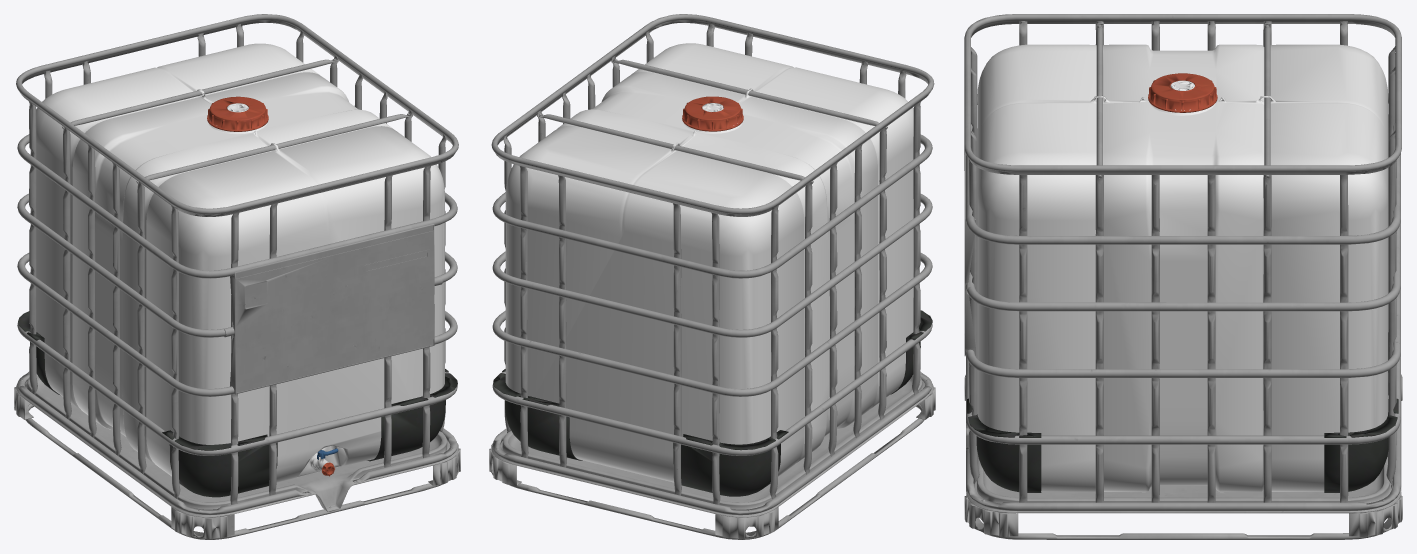
Rendered from ibc.glb.
The picture shows the model from 3 angles, left to right: view 1: azimuth 30°, elevation 25°; view 2: azimuth 150°, elevation 25°; view 3: azimuth 270°, elevation 25°; orthographic projection. The views are drawn at different scales.
Visible parts, largest first — view 1: sm_ibcTank_a02_mesh_00; view 2: sm_ibcTank_a02_mesh_00; view 3: sm_ibcTank_a02_mesh_00.
Boxes of the visible parts, box(x1,y1,x2,y2) form: sm_ibcTank_a02_mesh_00: box(14, 14, 460, 539); sm_ibcTank_a02_mesh_00: box(489, 14, 935, 539); sm_ibcTank_a02_mesh_00: box(964, 14, 1402, 539).
Size of the model in its own units: 1.05 by 1.2 by 1.26.
Materials: 5 (4 with a texture image).
